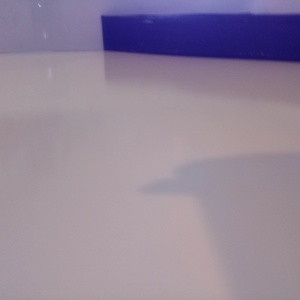zone: (100, 14, 300, 61)
